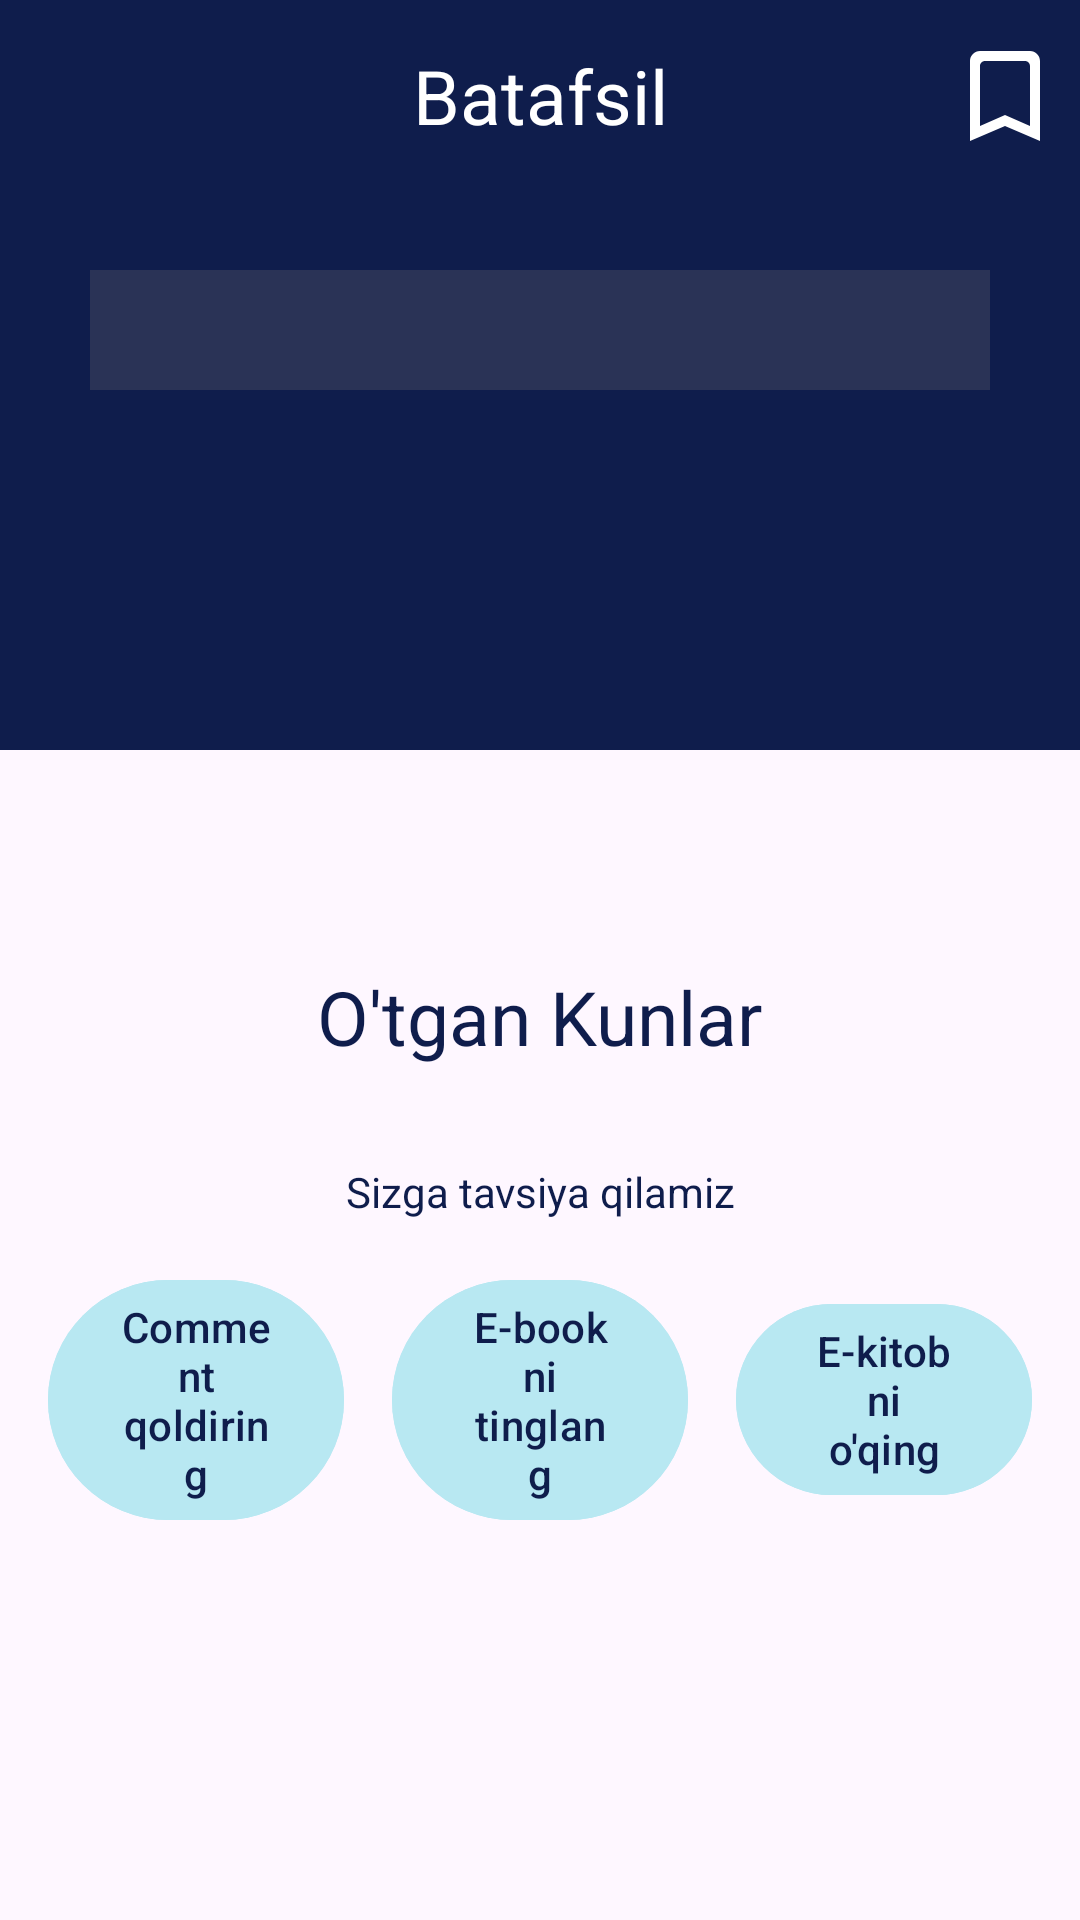

Point at icon controls on the screen. Image size 1080*1920, points as (x,y).
bookmark: (1005,96)
